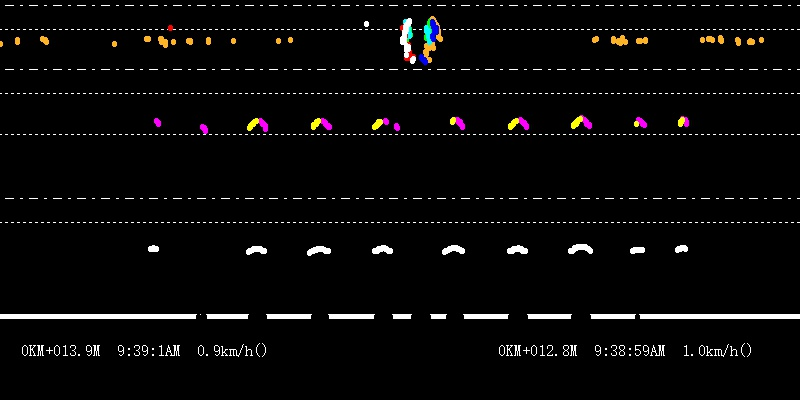J: (400, 4, 443, 66)
y_p: (239, 108, 596, 268)
